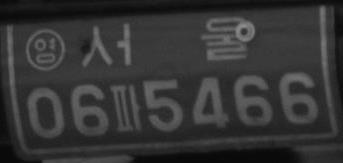0: (25, 85, 65, 140)
4: (191, 76, 229, 129)
5: (144, 79, 184, 133)
6: (232, 73, 273, 127), (70, 82, 110, 137), (278, 71, 318, 126)
서울_D: (81, 16, 250, 68)
영: (24, 28, 65, 72)
파: (110, 83, 142, 132)
